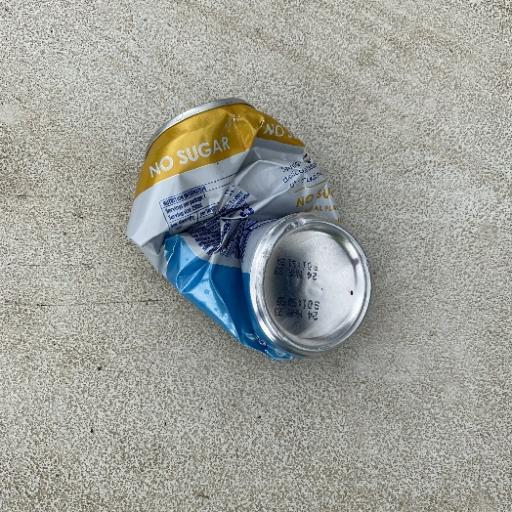Metal: (124, 96, 373, 362)
